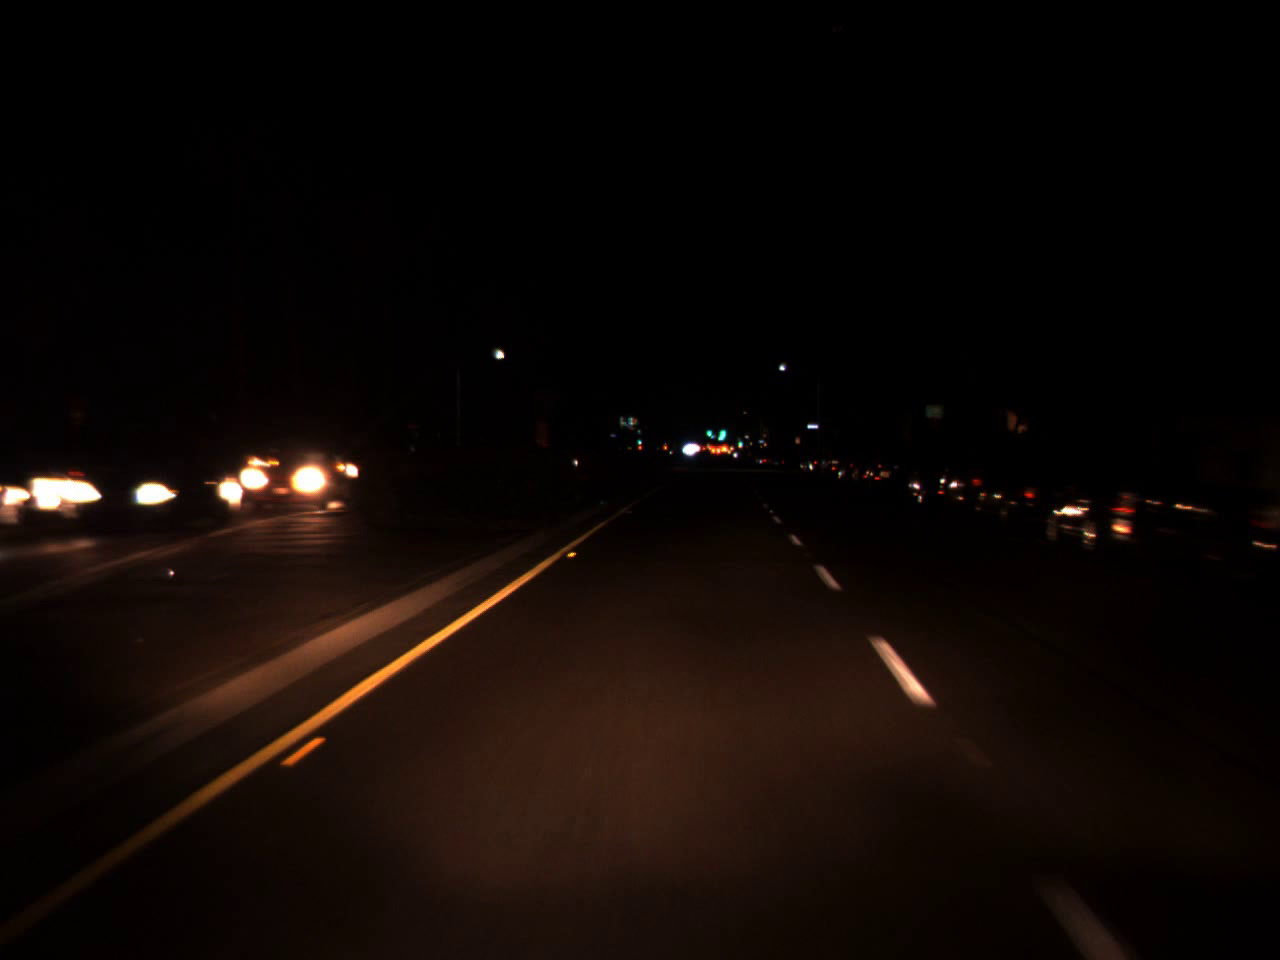go: (715, 418, 727, 439), (701, 418, 713, 439), (634, 431, 643, 446), (735, 435, 744, 447)
